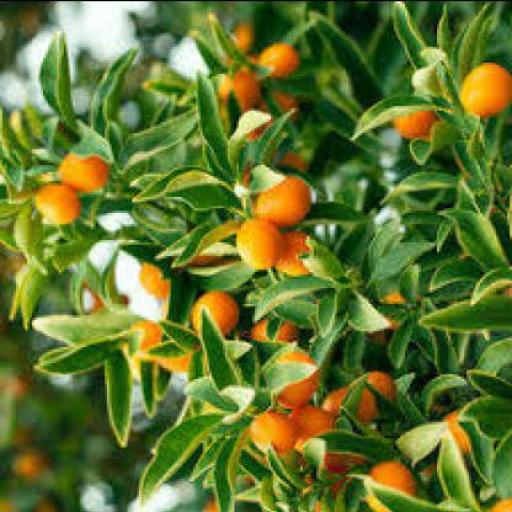biodegradable: (126, 380, 228, 505), (32, 311, 123, 383), (298, 450, 372, 511), (319, 366, 391, 428), (38, 28, 75, 130), (369, 271, 425, 337), (360, 455, 422, 511), (264, 341, 316, 407), (126, 310, 180, 371), (104, 337, 132, 453), (453, 68, 507, 120), (184, 278, 234, 334), (237, 406, 286, 460), (248, 180, 310, 222), (282, 400, 336, 448), (55, 146, 111, 191), (234, 216, 276, 270), (246, 310, 300, 352), (432, 410, 482, 453), (154, 335, 196, 384), (278, 221, 312, 280), (28, 184, 79, 223), (255, 82, 300, 125), (259, 39, 301, 82), (212, 72, 254, 114), (126, 256, 168, 298), (234, 112, 273, 154), (389, 107, 437, 139), (268, 144, 308, 176), (16, 441, 48, 478), (2, 366, 34, 403), (14, 2, 46, 36), (230, 20, 255, 58), (5, 114, 27, 146), (194, 494, 236, 510), (25, 492, 55, 511), (480, 496, 511, 511), (0, 496, 15, 511)
